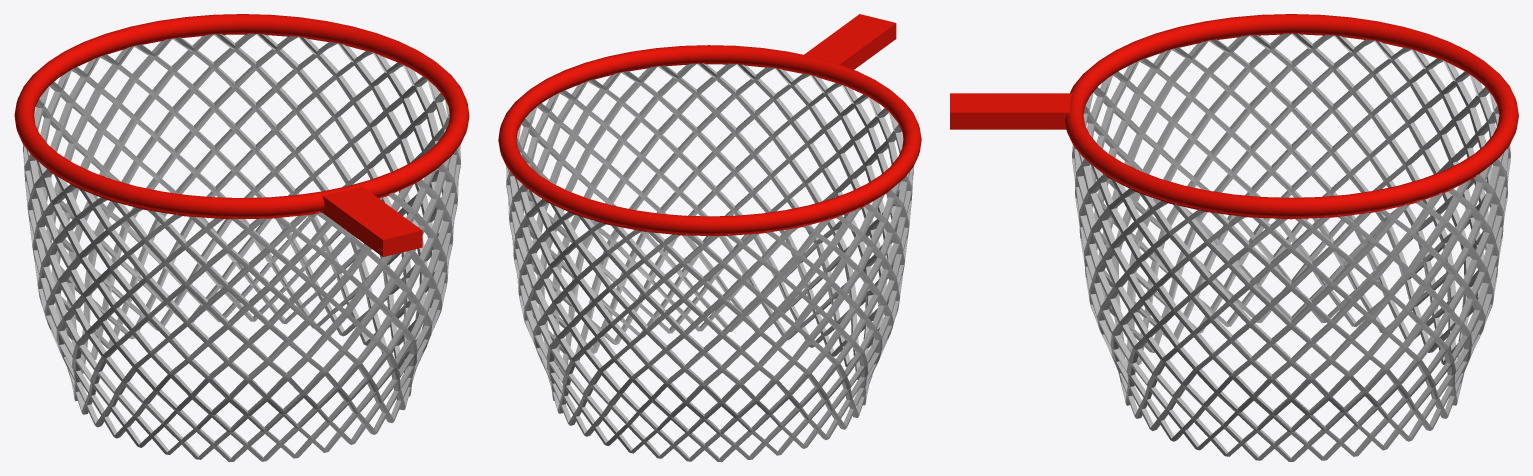
Rendered from hoop.fbx.
The picture shows the model from 3 angles, left to right: view 1: azimuth 30°, elevation 25°; view 2: azimuth 150°, elevation 25°; view 3: azimuth 270°, elevation 25°; orthographic projection. The views are drawn at different scales.
Visible parts, largest first — view 1: Hoop; view 2: Hoop; view 3: Hoop.
Part boxes in pixels (bbox=[...]): Hoop: bbox=[14, 14, 469, 461]; Hoop: bbox=[498, 14, 921, 461]; Hoop: bbox=[950, 14, 1518, 461].
Bounding box in the file's own units: 207 × 143 × 259.
